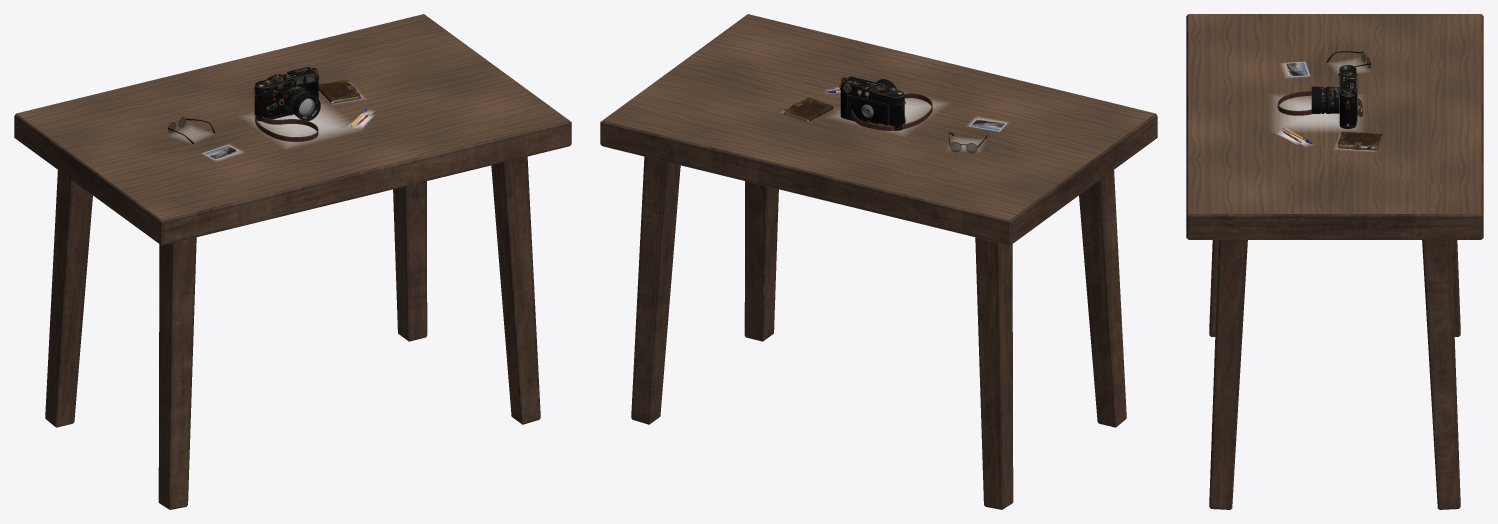
The model's file is desk-flat-lay.glb.
The picture shows the model from 3 angles, left to right: view 1: azimuth 30°, elevation 25°; view 2: azimuth 150°, elevation 25°; view 3: azimuth 270°, elevation 25°; orthographic projection.
Parts seen in each view (by area): view 1: wooden_table_02, Camera_01, shadow_camera, binder_notebook_closed, Camera_01_strap; view 2: wooden_table_02, Camera_01, shadow_camera, binder_notebook_closed, Camera_01_strap; view 3: wooden_table_02, Camera_01, shadow_camera, binder_notebook_closed, Camera_01_strap.
Boxes of the visible parts, bbox=[...] form: wooden_table_02: bbox=[14, 14, 571, 509]; Camera_01: bbox=[253, 67, 320, 121]; shadow_camera: bbox=[244, 102, 358, 147]; binder_notebook_closed: bbox=[318, 79, 361, 103]; Camera_01_strap: bbox=[255, 115, 318, 141]; wooden_table_02: bbox=[600, 14, 1157, 509]; Camera_01: bbox=[839, 76, 905, 130]; shadow_camera: bbox=[831, 98, 945, 134]; binder_notebook_closed: bbox=[783, 97, 833, 122]; Camera_01_strap: bbox=[851, 93, 932, 130]; wooden_table_02: bbox=[1186, 14, 1483, 509]; Camera_01: bbox=[1311, 65, 1358, 128]; shadow_camera: bbox=[1273, 95, 1360, 131]; binder_notebook_closed: bbox=[1337, 131, 1382, 150]; Camera_01_strap: bbox=[1277, 91, 1362, 116].
Size of the model in its own units: 1.64 by 1.3 by 1.02.
Materials: 17 (16 with a texture image).
